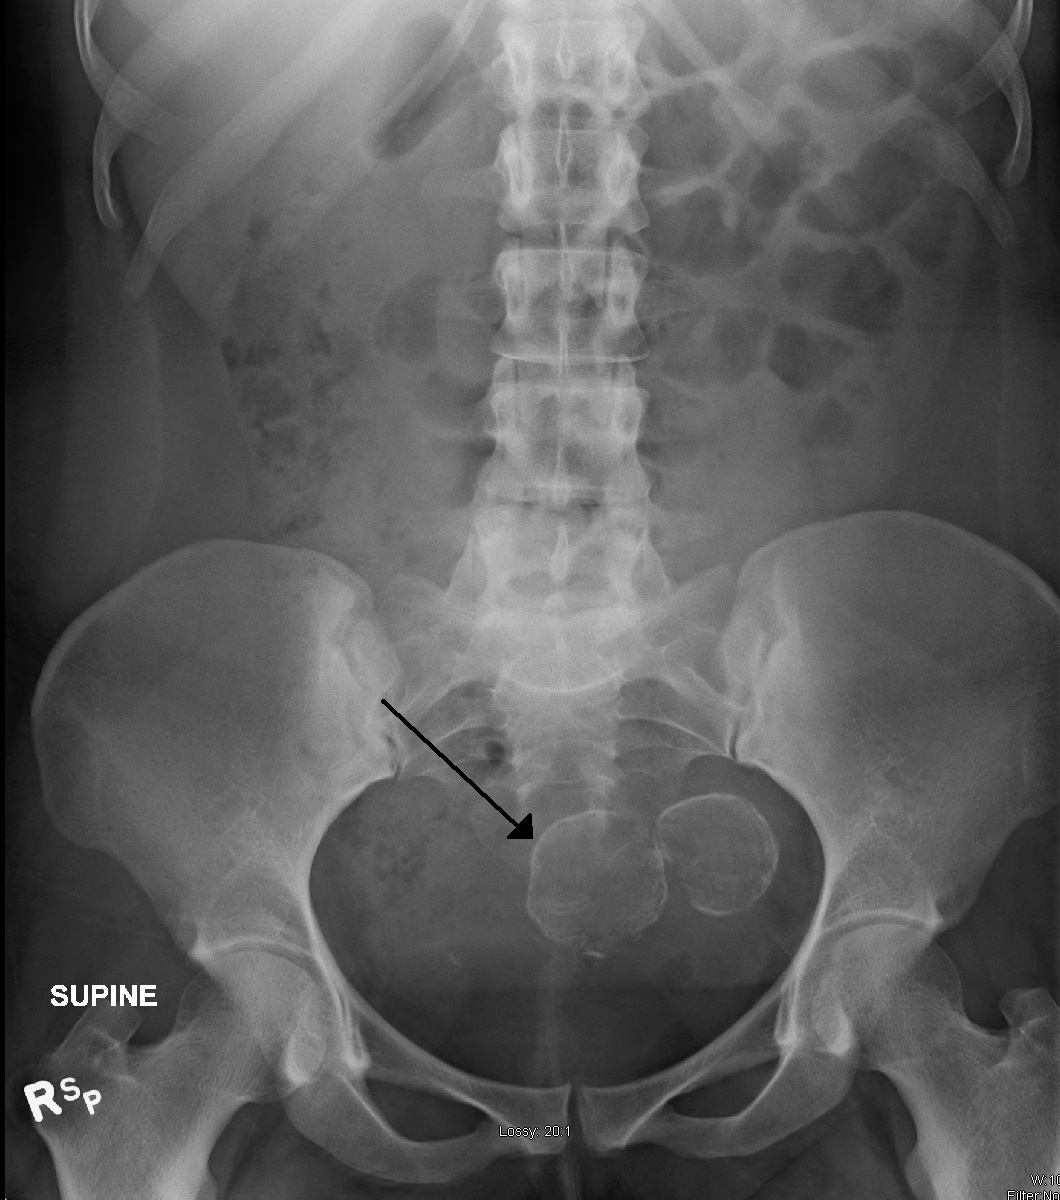Uterine fibroids: (525, 802, 785, 953)
